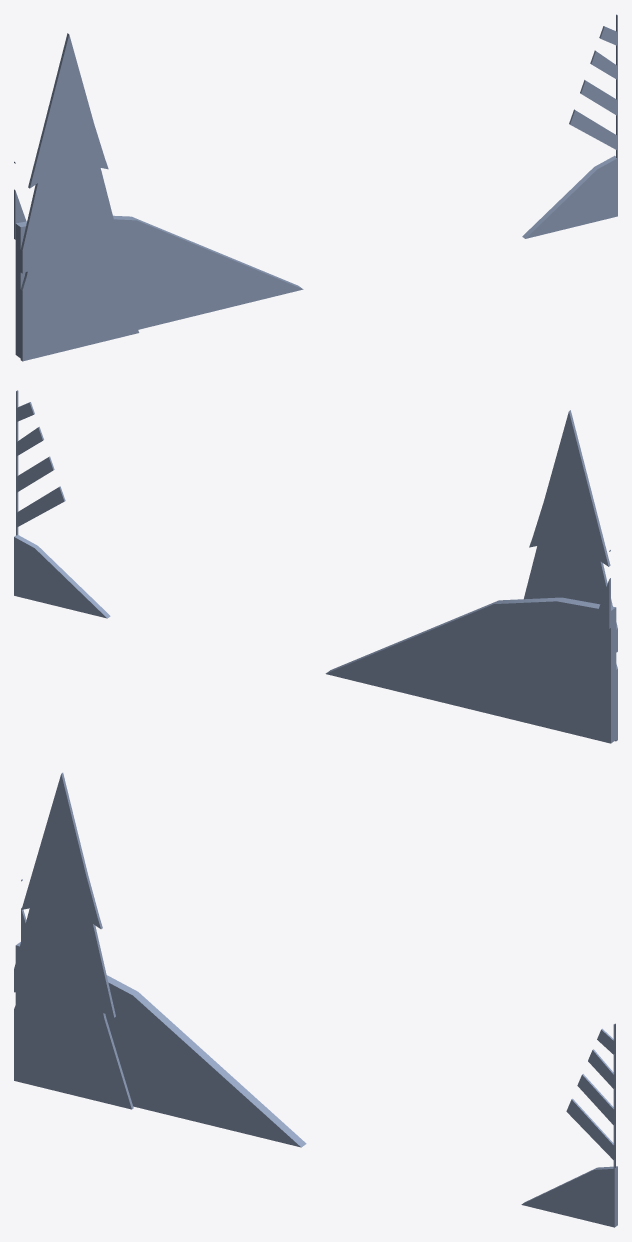
The model's file is frame_0012.glb.
3 renders of one model, top to bottom at view 1: azimuth 30°, elevation 25°; view 2: azimuth 150°, elevation 25°; view 3: azimuth 330°, elevation 25°, orthographic.
Parts seen in each view (by area): view 1: export_trees_001.002; view 2: export_trees_001.002; view 3: export_trees_001.002.
Boxes of the visible parts, <box> form: export_trees_001.002: <box>14,14,617,361</box>; export_trees_001.002: <box>14,390,617,743</box>; export_trees_001.002: <box>14,772,617,1227</box>.
Bounding box in the file's own units: 0.4327 × 0.2193 × 0.011.
